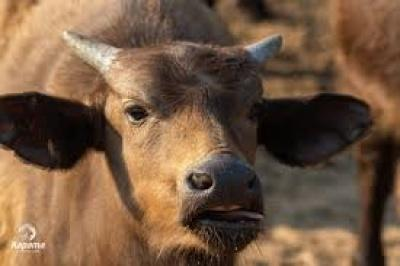buffalo: (0, 0, 372, 265)
